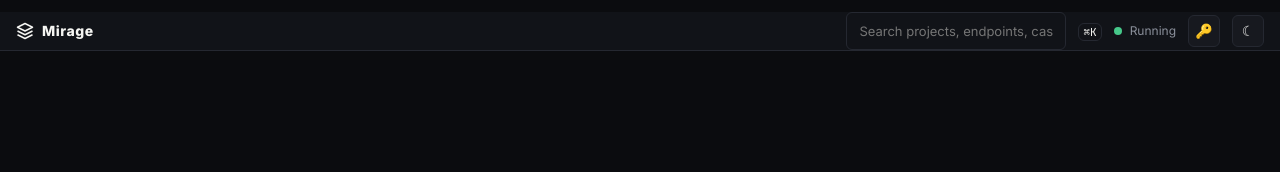
TopBar theme toggle › reflects the new theme in its aria-label after a click
The image size is (1280, 172).
Click the button named "Switch to light theme" at (1248, 31), box left=1232, top=15, right=1264, bottom=47
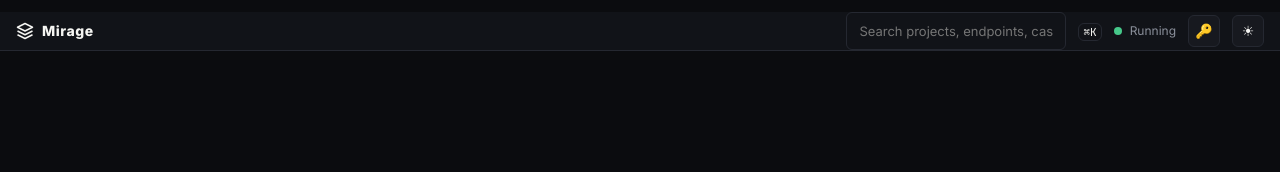
Now the button named "Switch to dark theme" reads "☀", box left=1232, top=15, right=1264, bottom=47
